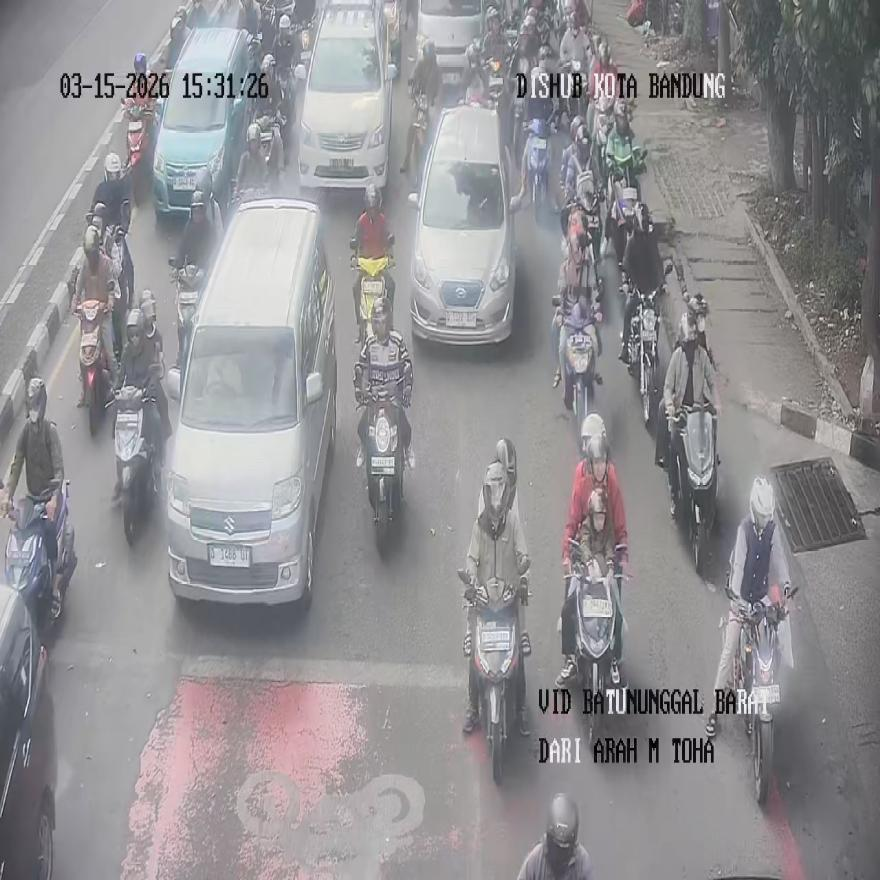Mobil: (164, 194, 336, 608), (408, 102, 517, 344), (296, 0, 397, 197), (152, 25, 252, 222), (415, 0, 486, 88)
Motor: (0, 584, 58, 878), (726, 581, 790, 804), (458, 570, 524, 784), (564, 540, 625, 746), (2, 480, 76, 632), (666, 405, 718, 573), (108, 381, 160, 545), (362, 395, 404, 550), (554, 293, 600, 434), (620, 289, 664, 432), (76, 301, 113, 435), (351, 234, 396, 344), (170, 257, 204, 369), (126, 106, 157, 194), (406, 82, 429, 187), (525, 118, 550, 212), (555, 63, 586, 134), (486, 56, 505, 108)
